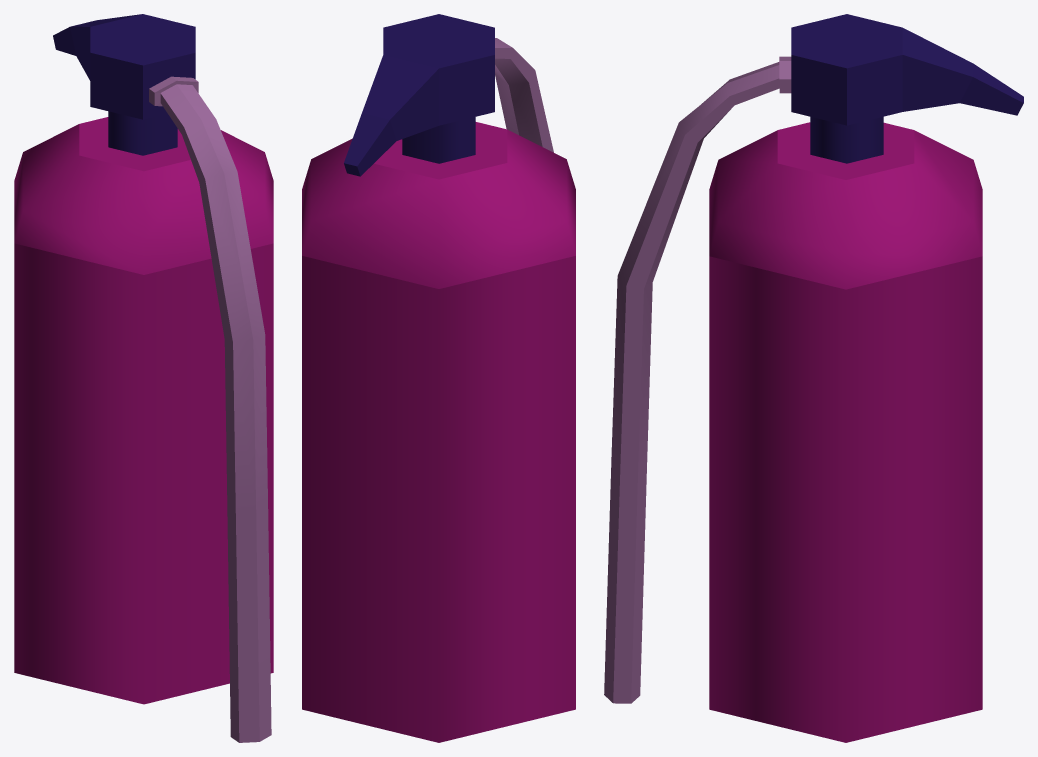
File: Extintor.FBX
The picture shows the model from 3 angles, left to right: view 1: azimuth 30°, elevation 25°; view 2: azimuth 150°, elevation 25°; view 3: azimuth 270°, elevation 25°; orthographic projection. The views are drawn at different scales.
Parts seen in each view (by area): view 1: Line001; view 2: Line001; view 3: Line001.
Part boxes in pixels (x1,y1,x2,y2): Line001: (14, 14, 273, 742); Line001: (302, 14, 575, 742); Line001: (604, 14, 1023, 742).
Bounding box in the file's own units: 68.37 × 156 × 90.9.
